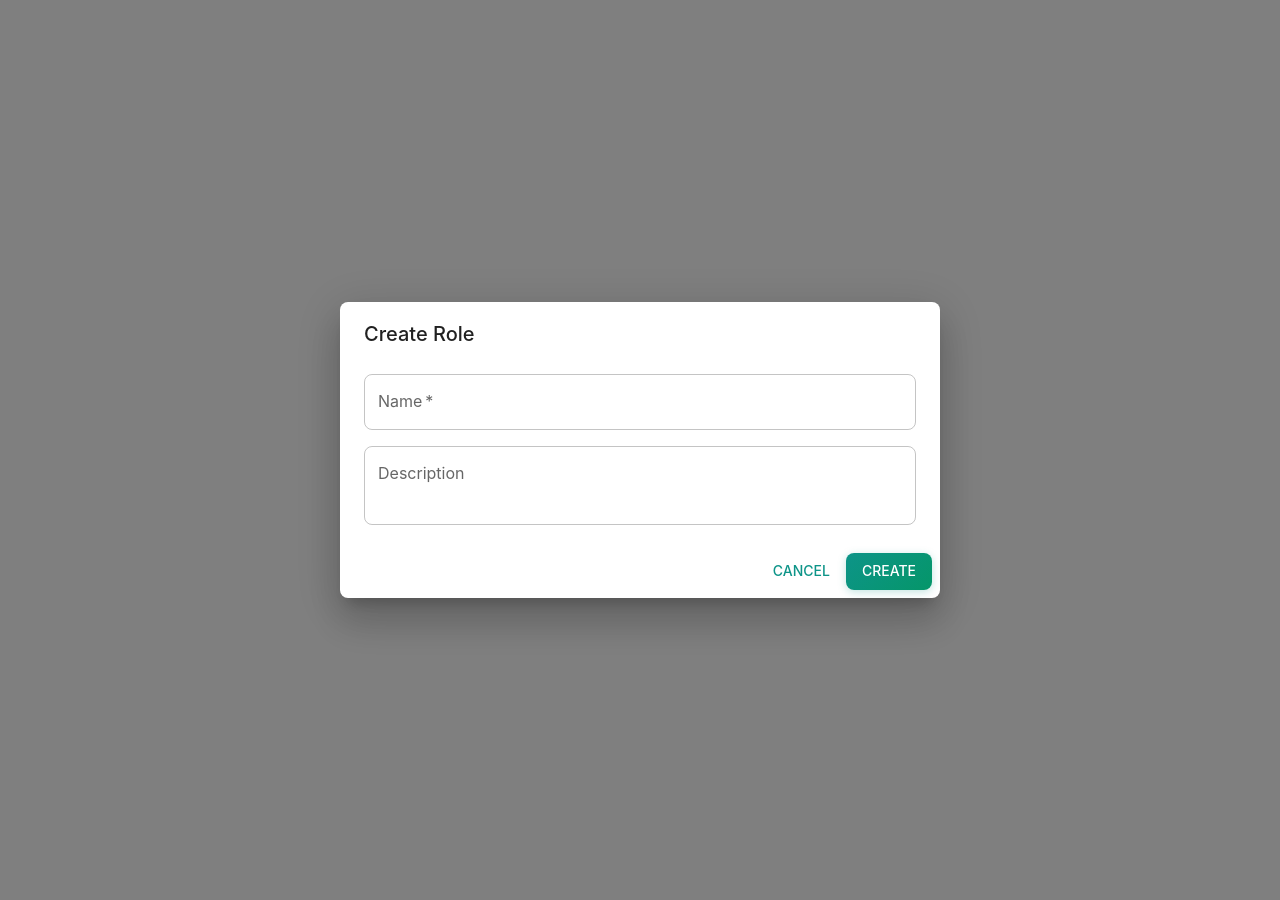
it: CreateRoleDialog › shows validation error for empty name
Click the button "Create". click: (889, 572)
box: [846,553,932,590]
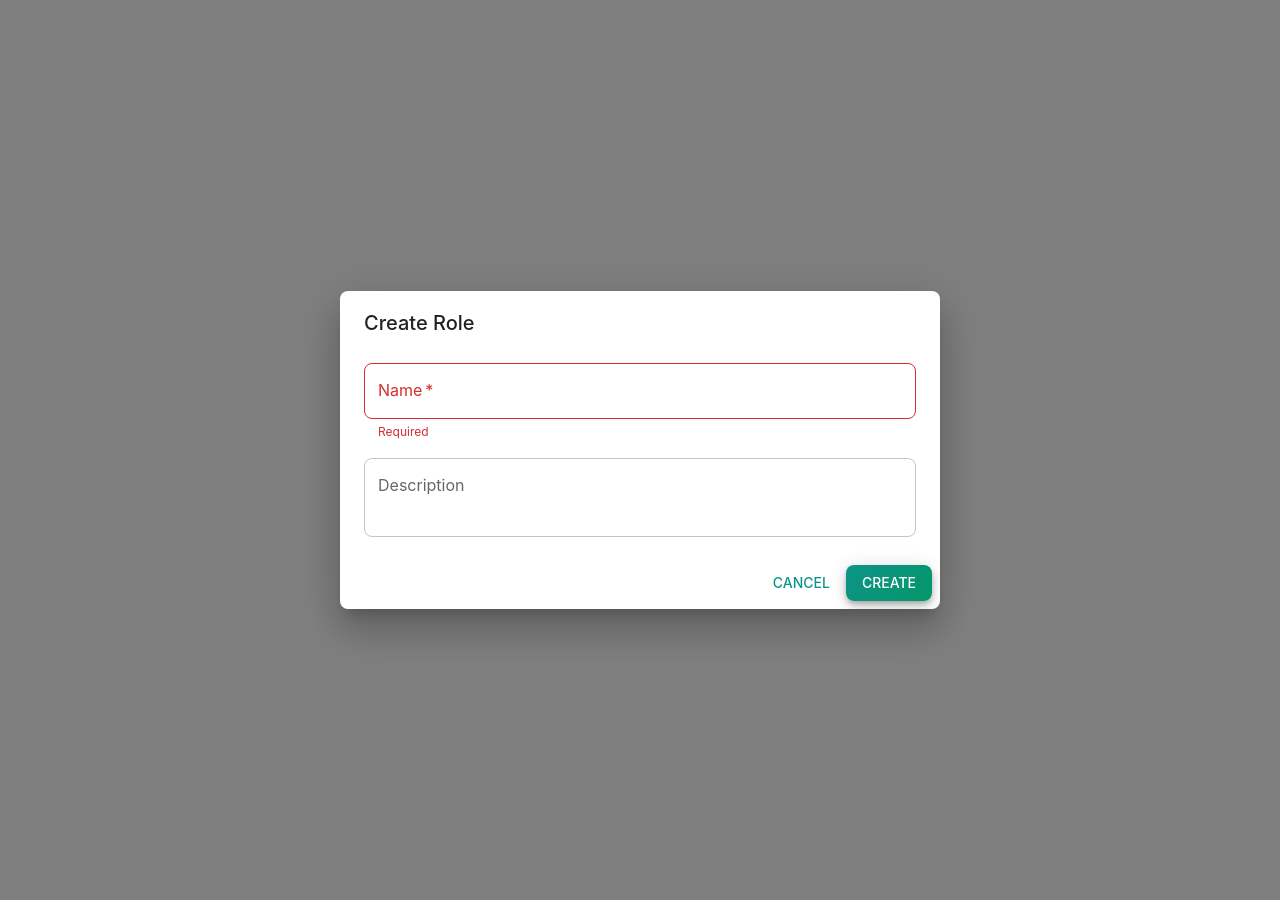
Now the text "Required" is shown, box [378,424,429,439]
